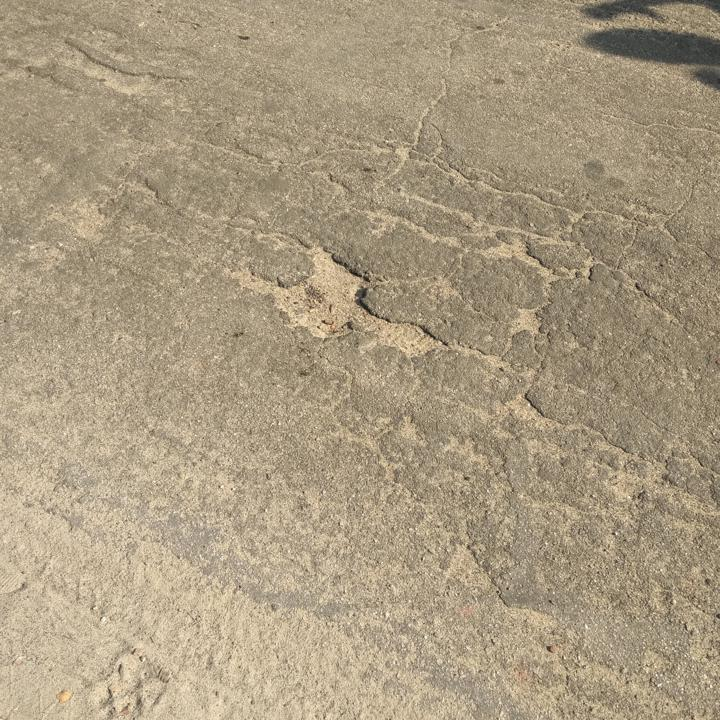pothole: (228, 241, 444, 362)
